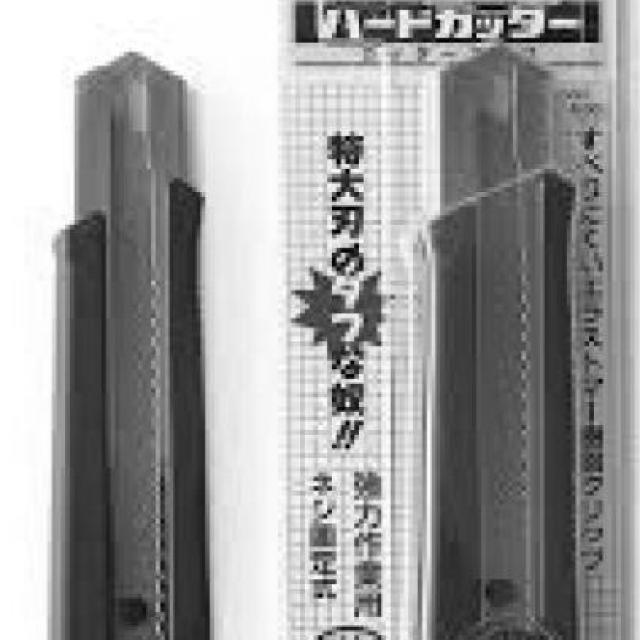estilete: (416, 50, 579, 640), (51, 54, 208, 640)
